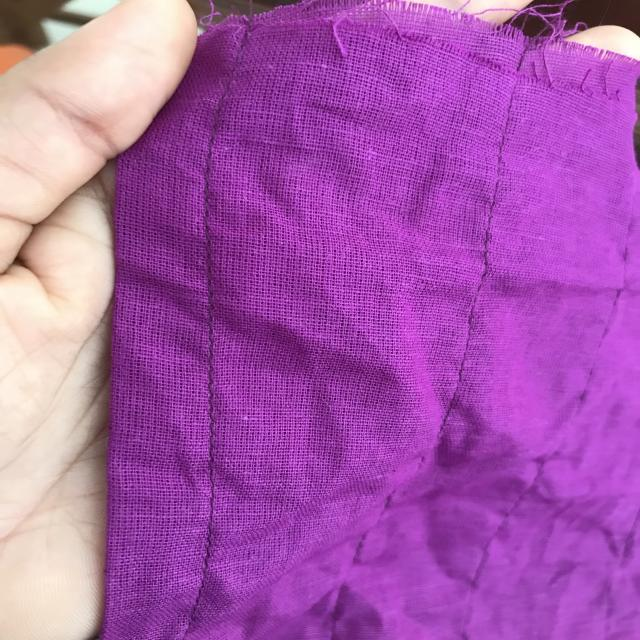good: (197, 335, 227, 474), (197, 538, 224, 590)
